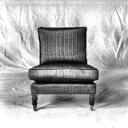chair_success: (19, 20, 111, 115)
